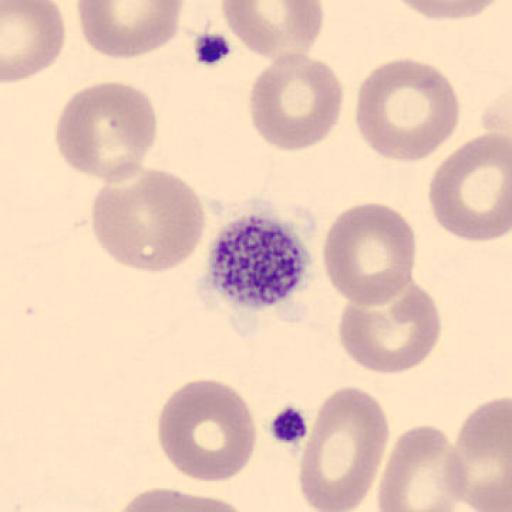Platelet: (195, 210, 318, 312), (265, 401, 310, 448)
RBC: (89, 167, 207, 274), (297, 385, 390, 512), (354, 56, 461, 164), (52, 80, 158, 184), (155, 376, 257, 484), (321, 201, 417, 308), (337, 279, 442, 375), (248, 51, 344, 152), (428, 131, 512, 243), (376, 424, 470, 512), (449, 397, 512, 511), (76, 0, 184, 61), (220, 0, 325, 62), (1, 0, 67, 83), (108, 486, 255, 512), (388, 0, 507, 21), (462, 471, 512, 512)
